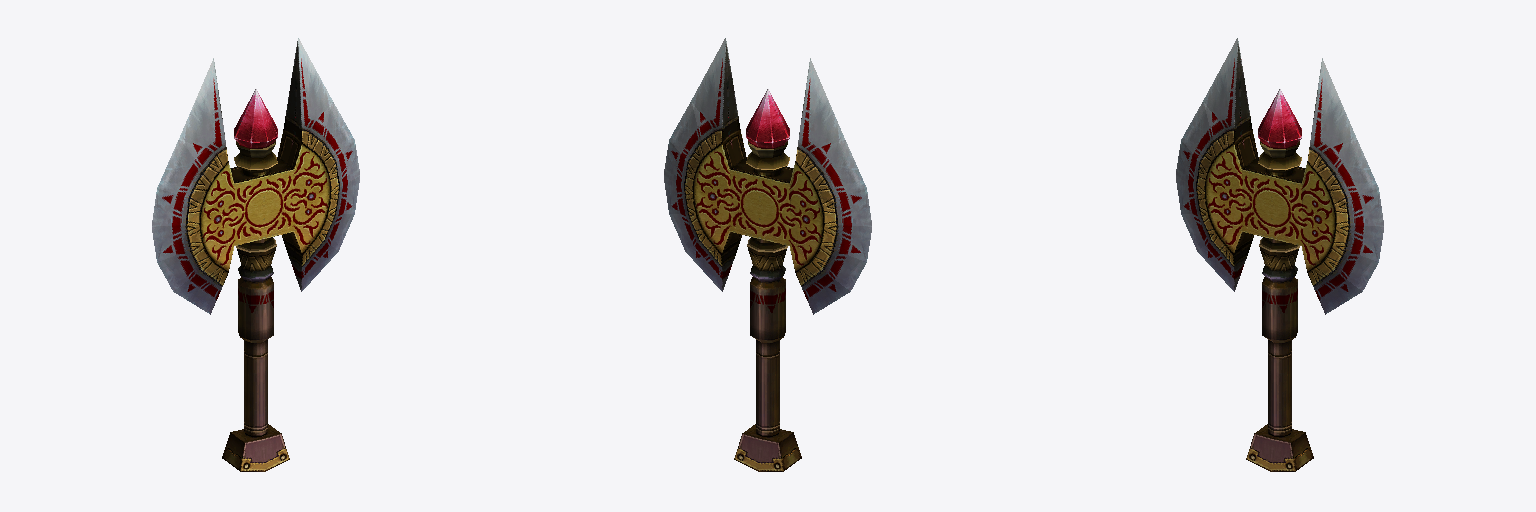
3 views of the same model, side by side, from view 1: azimuth 30°, elevation 25°; view 2: azimuth 150°, elevation 25°; view 3: azimuth 330°, elevation 25° (orthographic).
Parts seen in each view (by area): view 1: V1_U2_P20_N0, V1_U2_P20_N1; view 2: V1_U2_P20_N0, V1_U2_P20_N1; view 3: V1_U2_P20_N0, V1_U2_P20_N1.
Boxes of the visible parts, box(x1,y1,x2,y2) form: V1_U2_P20_N0: box(152, 38, 359, 314); V1_U2_P20_N1: box(199, 129, 331, 471); V1_U2_P20_N0: box(664, 38, 871, 314); V1_U2_P20_N1: box(692, 129, 824, 471); V1_U2_P20_N0: box(1176, 38, 1383, 314); V1_U2_P20_N1: box(1204, 129, 1336, 471).
Size of the model in its own units: 5.07 by 9.68 by 1.03.
Materials: 1 (1 with a texture image).